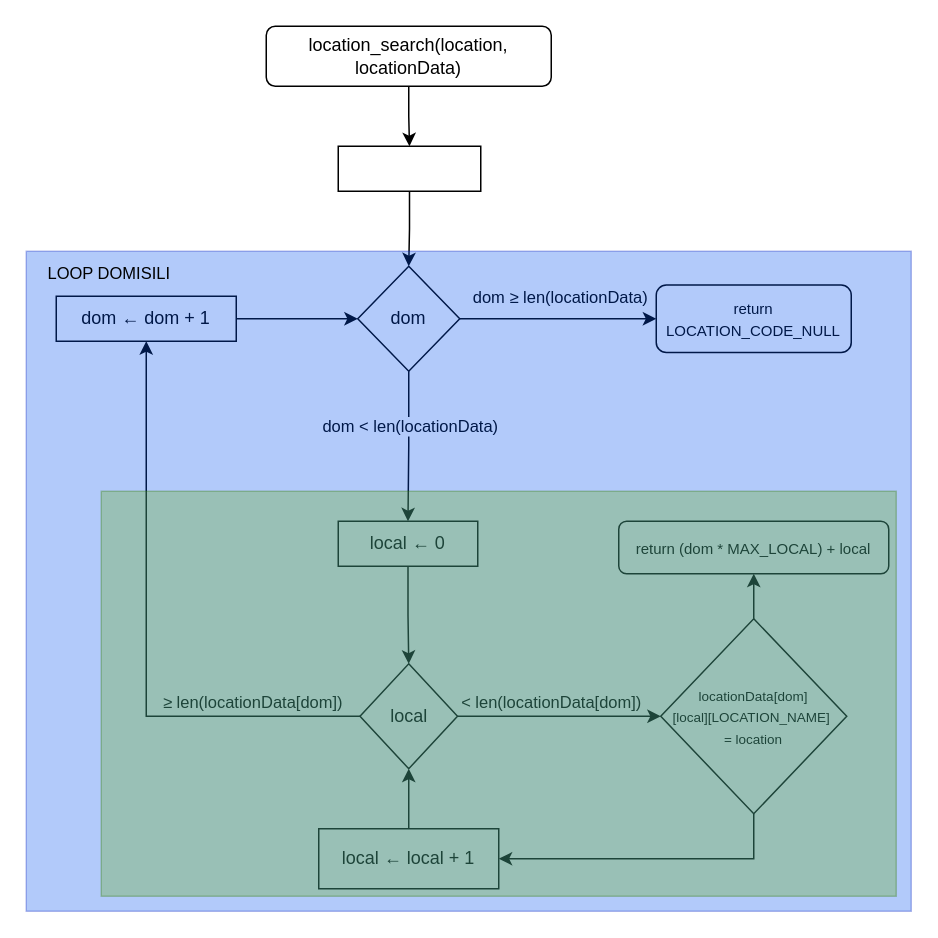
This 938x938 diagram has some shape labels left out. Each missing label, with the centre of its shape:
dom ← 0: (x=409, y=168)
LOOP LOKAL: (x=498, y=693)
